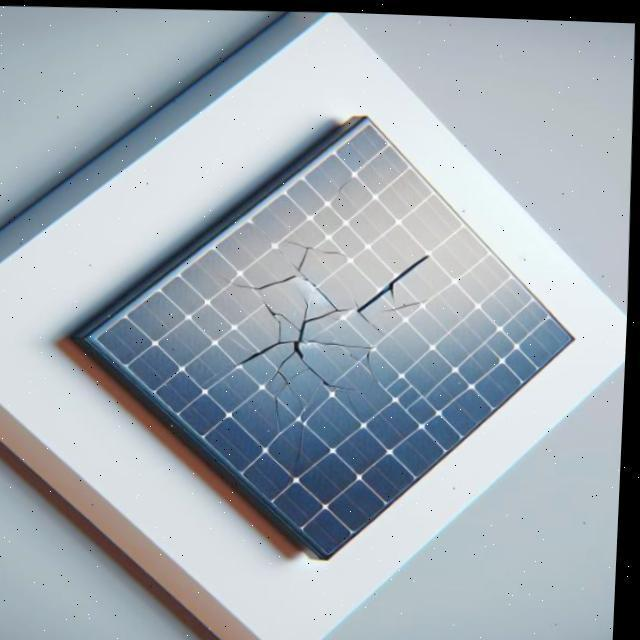Anomaly Solar Panel: (93, 96, 575, 574)
Structural Damage: (206, 256, 393, 438), (355, 234, 446, 333), (280, 234, 353, 272), (219, 267, 300, 288), (303, 269, 343, 309), (379, 292, 435, 310), (291, 420, 311, 470), (334, 169, 356, 192)
